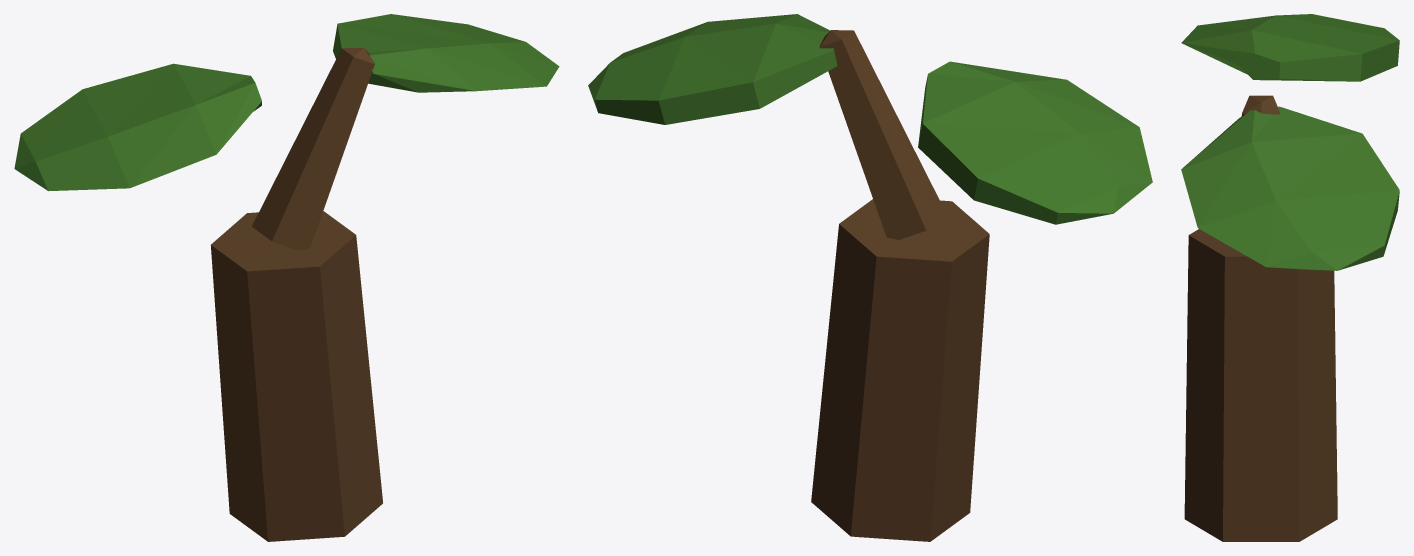
File: grape_0.gltf
3 views of the same model, side by side, from view 1: azimuth 30°, elevation 25°; view 2: azimuth 150°, elevation 25°; view 3: azimuth 270°, elevation 25° (orthographic). The views are drawn at different scales.
Parts seen in each view (by area): view 1: grape_0; view 2: grape_0; view 3: grape_0.
Part boxes in pixels (<box>): grape_0: <box>14,14,559,541</box>; grape_0: <box>588,14,1152,541</box>; grape_0: <box>1181,14,1399,541</box>.
Bounding box in the file's own units: 0.2914 × 0.2462 × 0.1085.
